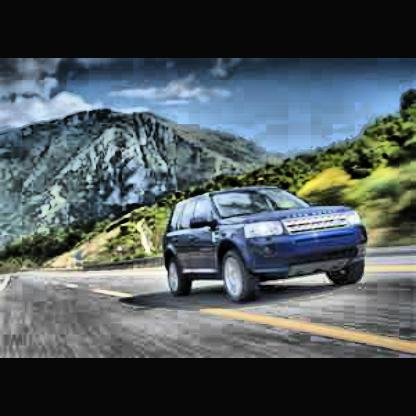Land Rover LR2 SUV 2012: (166, 183, 374, 314)
